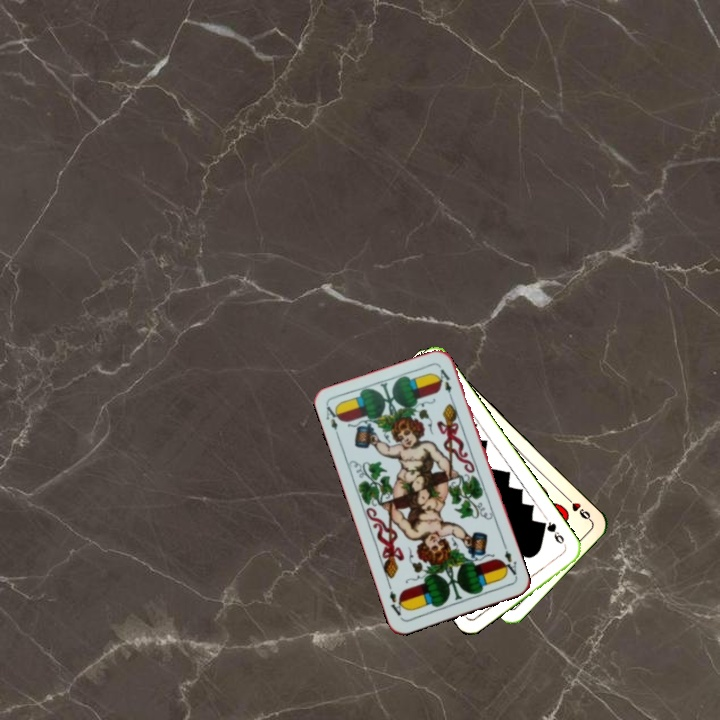EA: (498, 541, 520, 580), (322, 402, 344, 441)
G9: (537, 518, 567, 546)
H9: (561, 492, 594, 524)
